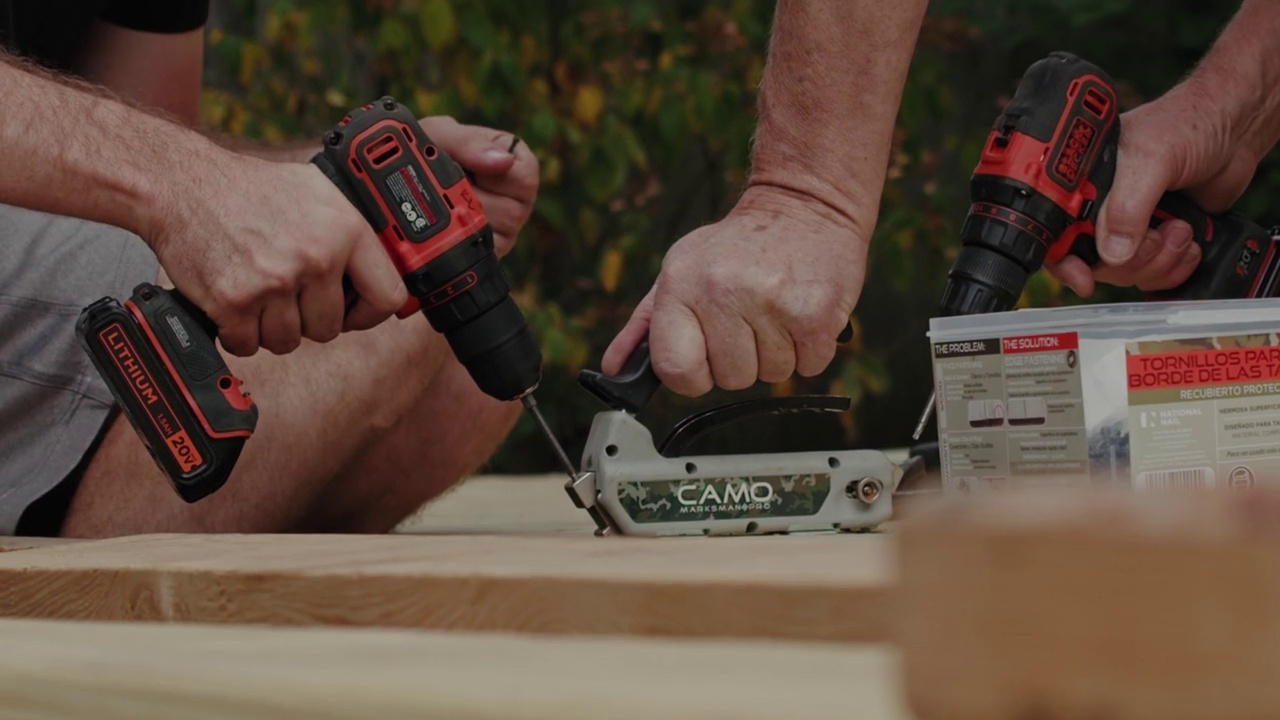driller: (73, 94, 577, 506), (908, 46, 1280, 445)
